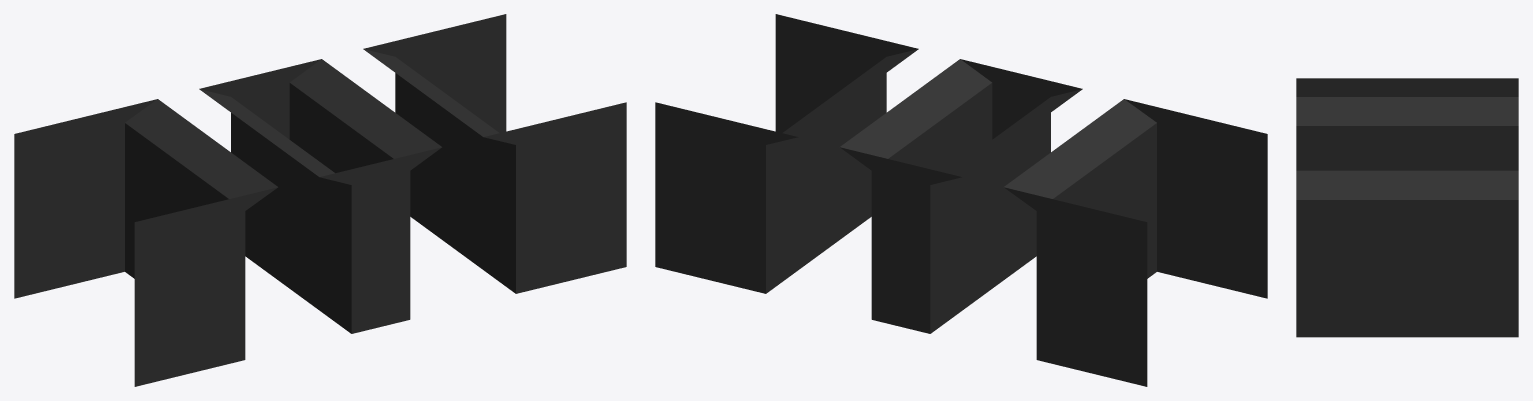
The model's file is straatBrugPILLAR.fbx.
The picture shows the model from 3 angles, left to right: view 1: azimuth 30°, elevation 25°; view 2: azimuth 150°, elevation 25°; view 3: azimuth 270°, elevation 25°; orthographic projection. The views are drawn at different scales.
Visible parts, largest first — view 1: Cube; view 2: Cube; view 3: Cube.
Part boxes in pixels (left/top/right/bottom): Cube: left=14, top=14, right=626, bottom=386; Cube: left=655, top=14, right=1267, bottom=386; Cube: left=1296, top=78, right=1518, bottom=337.
Bounding box in the file's own units: 800 × 256 × 340.
